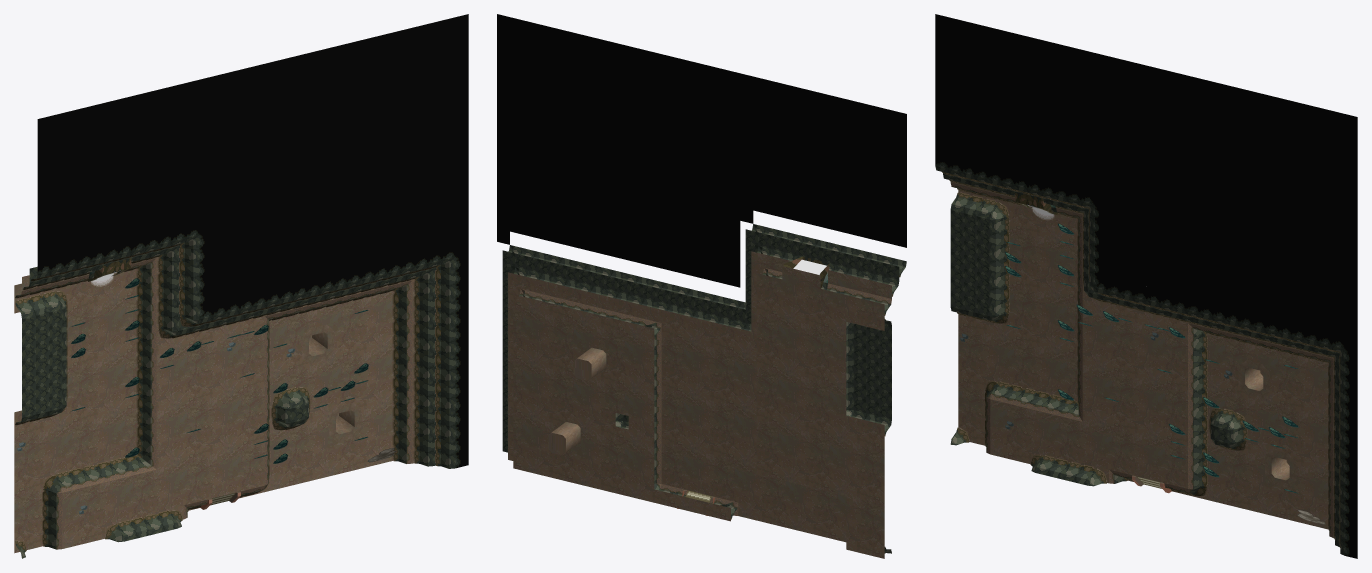
File: HGRT-Caves-v1_01_14.obj
The picture shows the model from 3 angles, left to right: view 1: azimuth 30°, elevation 25°; view 2: azimuth 150°, elevation 25°; view 3: azimuth 330°, elevation 25°; orthographic projection. The views are drawn at different scales.
Parts seen in each view (by area): view 1: map; view 2: map; view 3: map.
Part boxes in pixels (x1,y1,x2,y2): map: (14, 14, 468, 558); map: (497, 14, 906, 558); map: (935, 14, 1357, 558).
Bounding box in the file's own units: 32 × 32 × 4.88.
17 materials, 17 textured.
